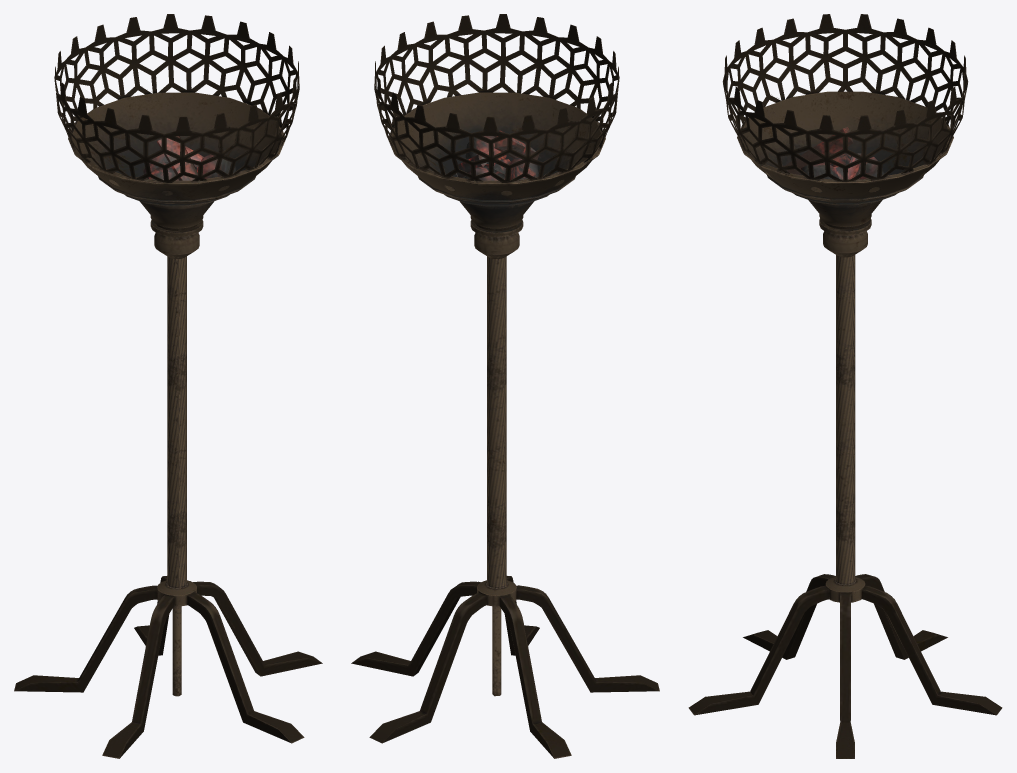
The model's file is brazier_pole.glb.
3 views of the same model, side by side, from view 1: azimuth 30°, elevation 25°; view 2: azimuth 150°, elevation 25°; view 3: azimuth 270°, elevation 25° (orthographic).
Visible parts, largest first — view 1: defaultMaterial; view 2: defaultMaterial; view 3: defaultMaterial.
Part boxes in pixels (<box>): defaultMaterial: <box>14,14,322,758</box>; defaultMaterial: <box>351,14,659,758</box>; defaultMaterial: <box>688,14,1002,758</box>.
Size of the model in its own units: 0.8659 by 2 by 0.9104.
Materials: 1 (1 with a texture image).
